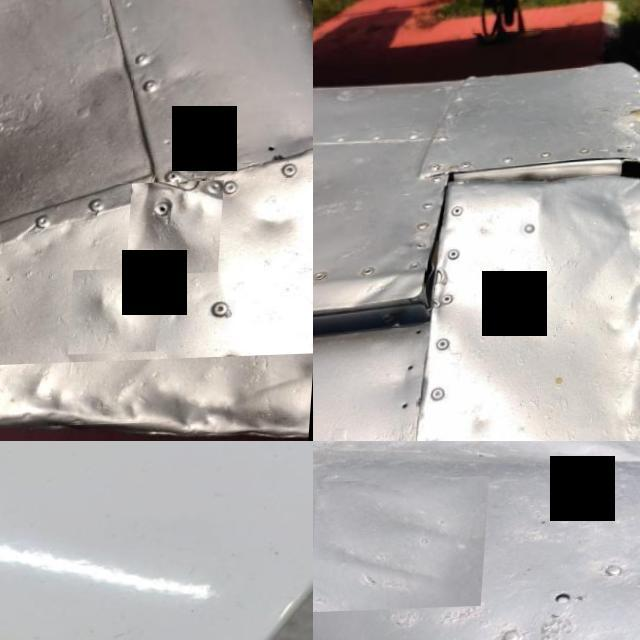Dent: (0, 358, 313, 441), (316, 480, 496, 614), (313, 441, 640, 507), (529, 170, 640, 273), (130, 184, 228, 279), (74, 272, 165, 358), (239, 190, 313, 264)
